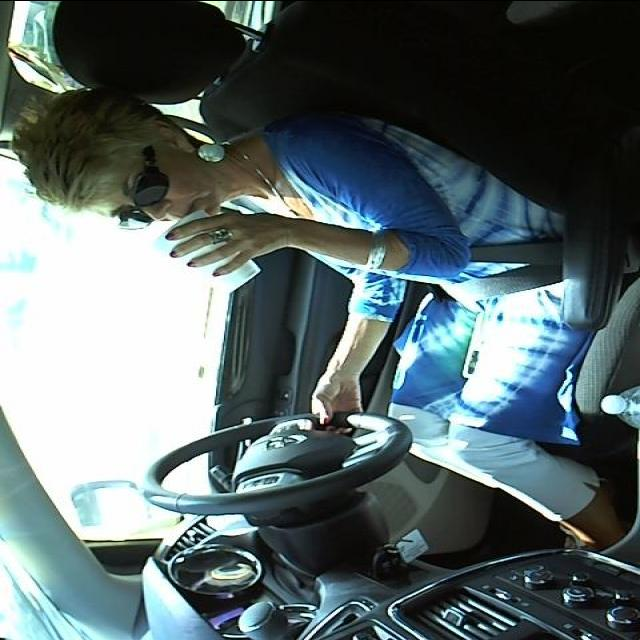drinking: (154, 205, 262, 295)
